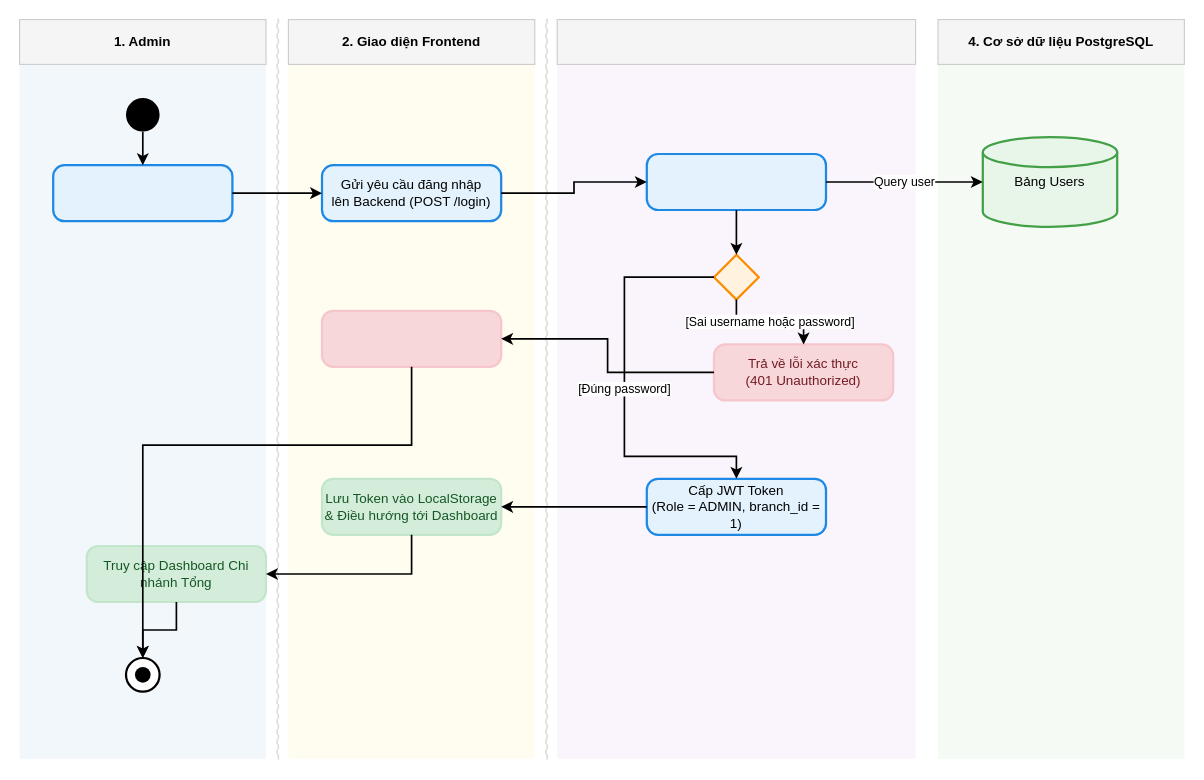
Some shapes in this 1204 by 780 pixel diagram are drawn without their labels. Here are the shapes that lost their labels. From the top down, the centre of each, then its label:
At (x=736, y=41): "3. Hệ thống Backend".
At (x=142, y=193): "Nhập username và password".
At (x=736, y=181): "1. Tìm tài khoản theo username 2. So khớp BCrypt password".
At (x=411, y=338): "Hiển thị thông báo lỗi đăng nhập".
